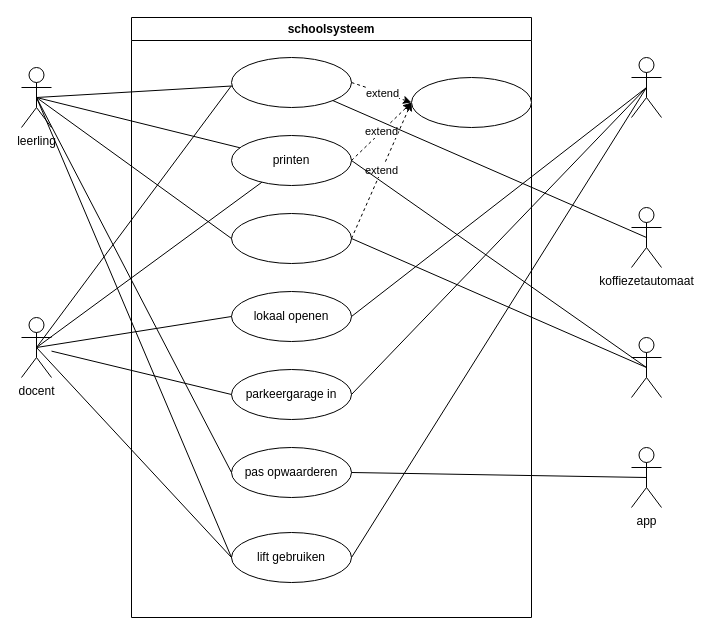
Image size: 711x635. Some labels were removed from this diagram. The shapes that lost their labels are listed below. From the top down, each one's centre as x and y in pixels, then its label:
[291,82]: koffie halen
[471,102]: betalen
[646,87]: deurlezer
[291,238]: kopieren
[646,367]: printer
